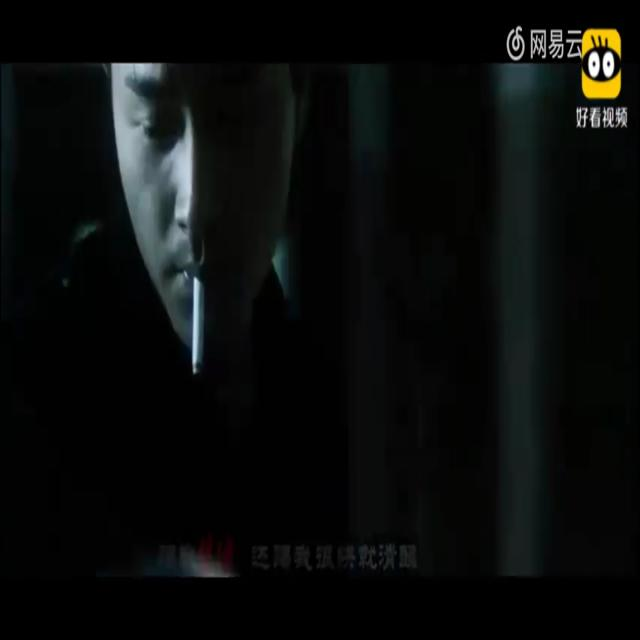smoke: (180, 272, 220, 374)
